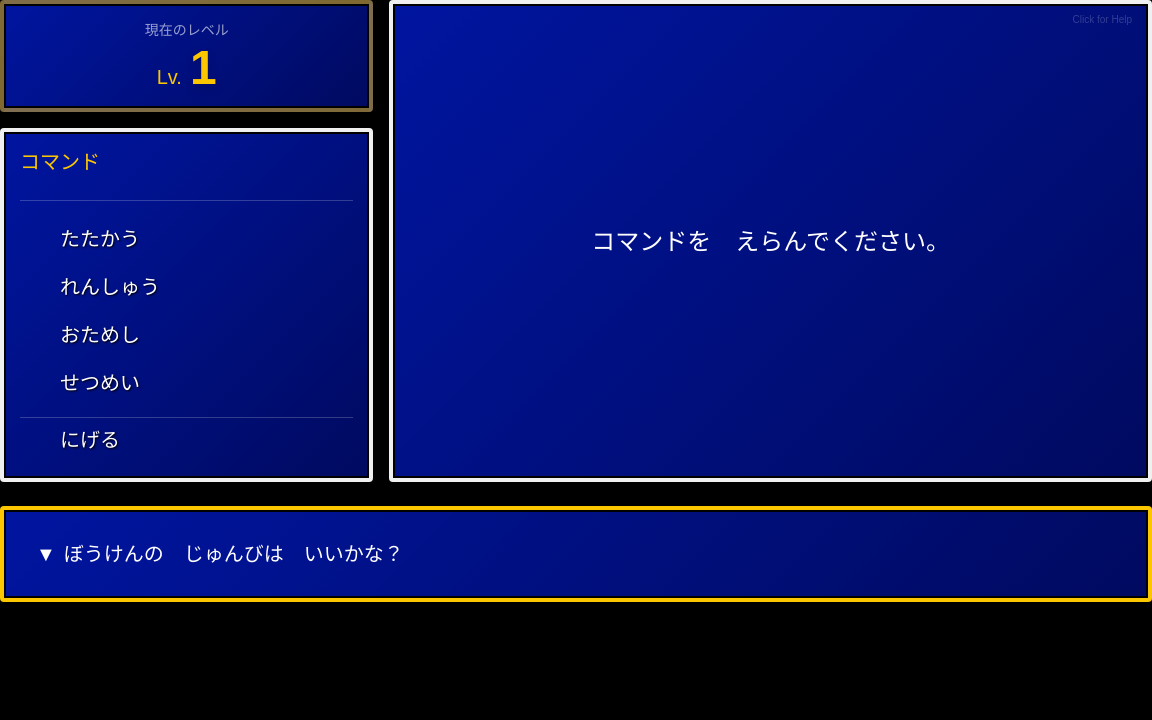
Test: MainMenu › switches to "おためし" category and shows its items when clicked
The image size is (1152, 720).
Click the button "おためし" at (100, 335), box [20, 313, 353, 357]
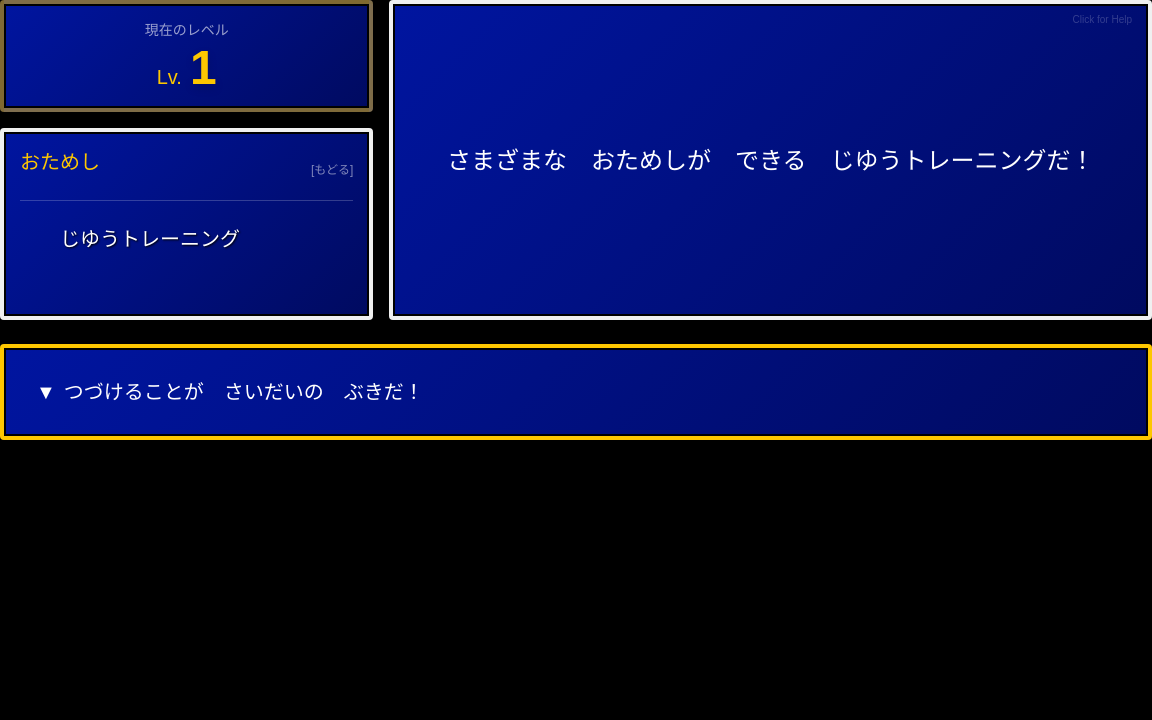
expect the heading reads "おためし": met, box [20, 151, 100, 173]
expect the button "じゆうトレーニング" is shown: met, box [20, 217, 353, 261]
